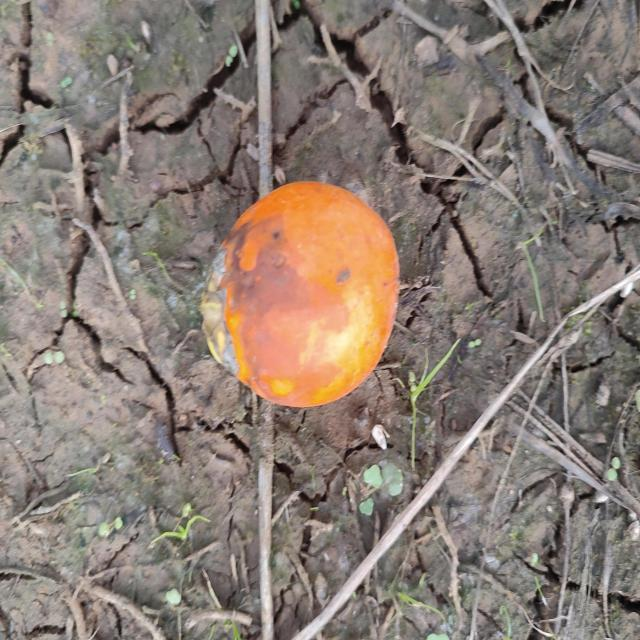good: (201, 181, 400, 411)
